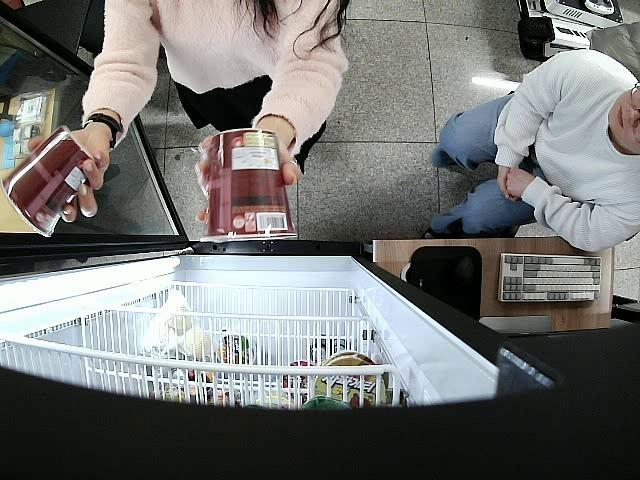06_nuguri_S: (201, 130, 297, 243), (3, 125, 100, 236)
